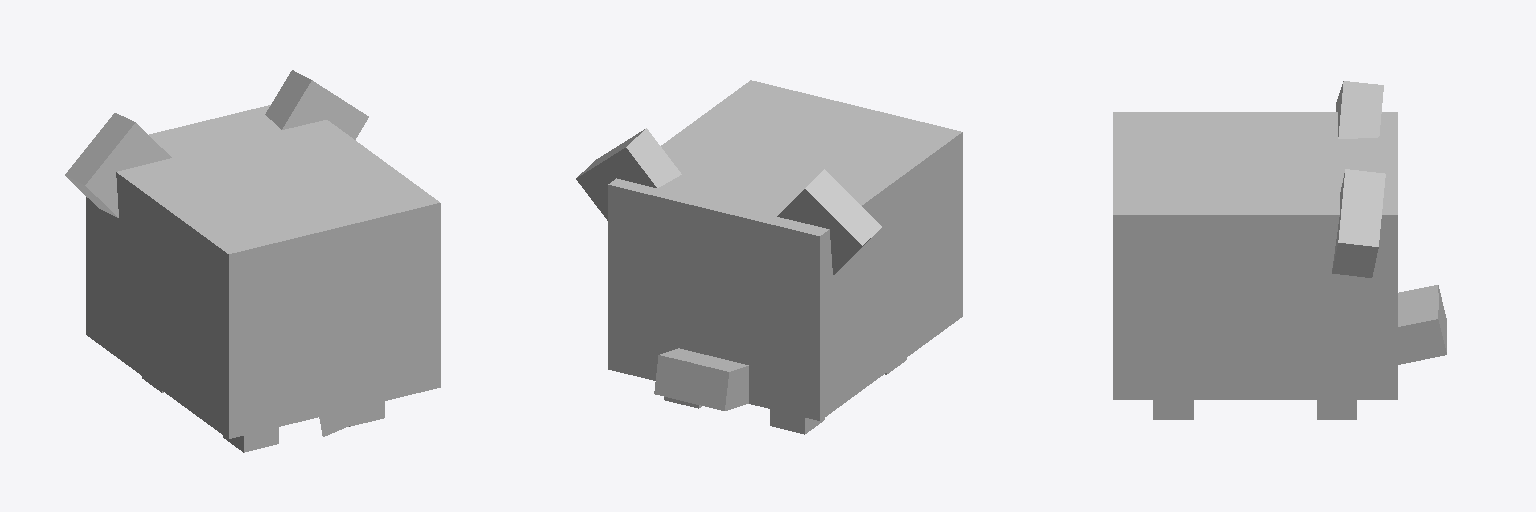
Rendered from hedgehoguv.obj.
3 views of the same model, side by side, from view 1: azimuth 30°, elevation 25°; view 2: azimuth 150°, elevation 25°; view 3: azimuth 270°, elevation 25° (orthographic).
Parts seen in each view (by area): view 1: body, cube; view 2: body, cube; view 3: body, cube.
Boxes of the visible parts, <box> form: body: <box>86,105,440,438</box>; cube: <box>65,70,384,452</box>; body: <box>608,80,962,420</box>; cube: <box>576,128,906,434</box>; body: <box>1113,112,1397,399</box>; cube: <box>1153,81,1446,419</box>.
Size of the model in its own units: 0.5057 by 0.4459 by 0.5131.